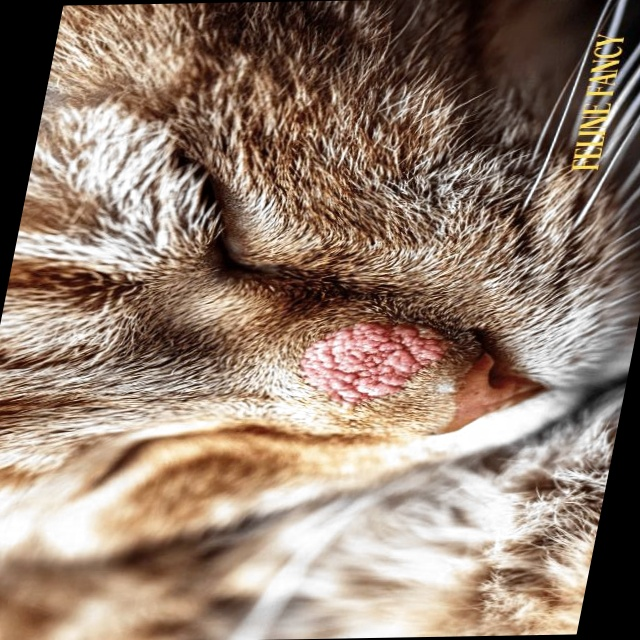lump_and_bump: (290, 322, 453, 401)
